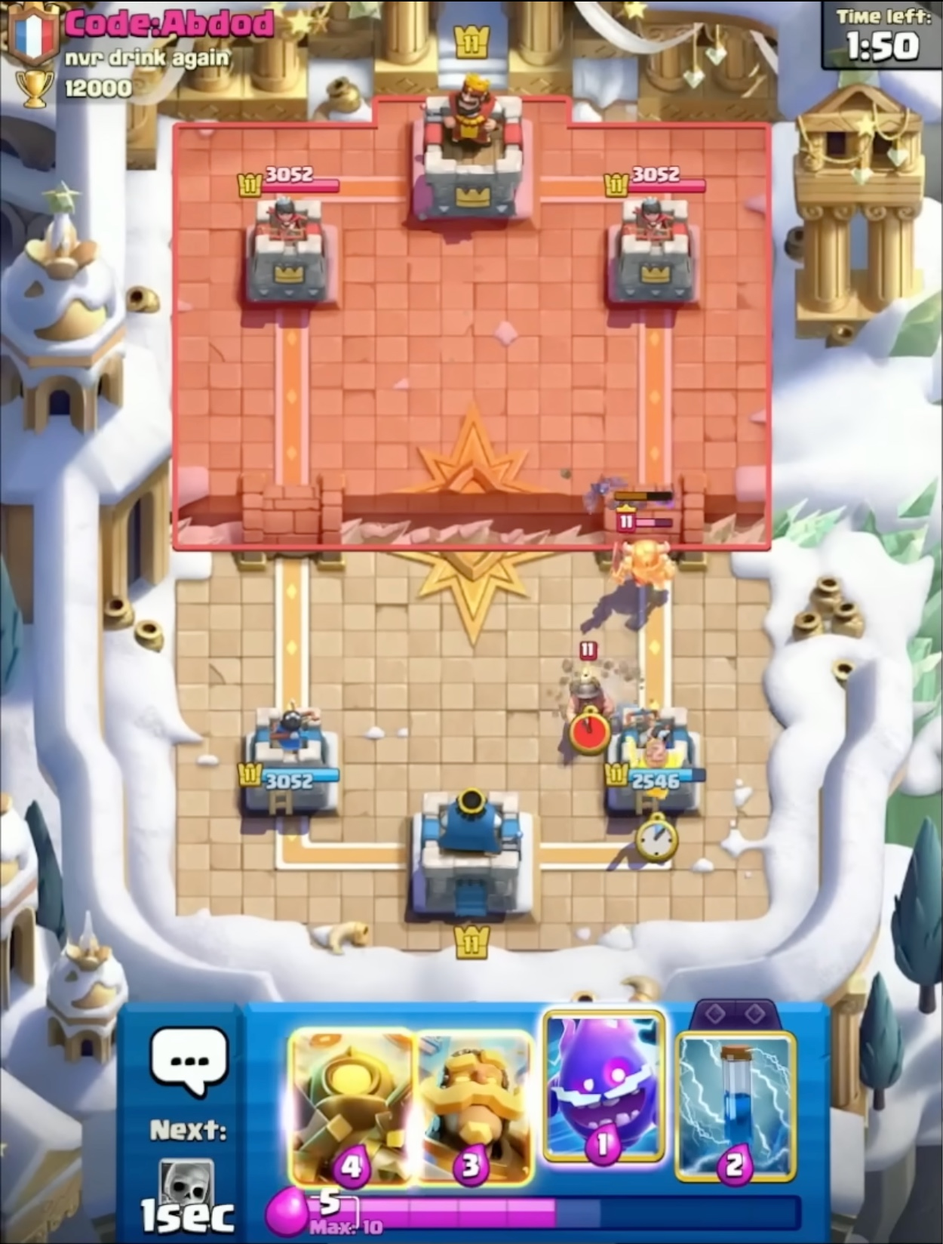hero-mini-pekka: (599, 476, 682, 605)
miner: (560, 634, 617, 763)
